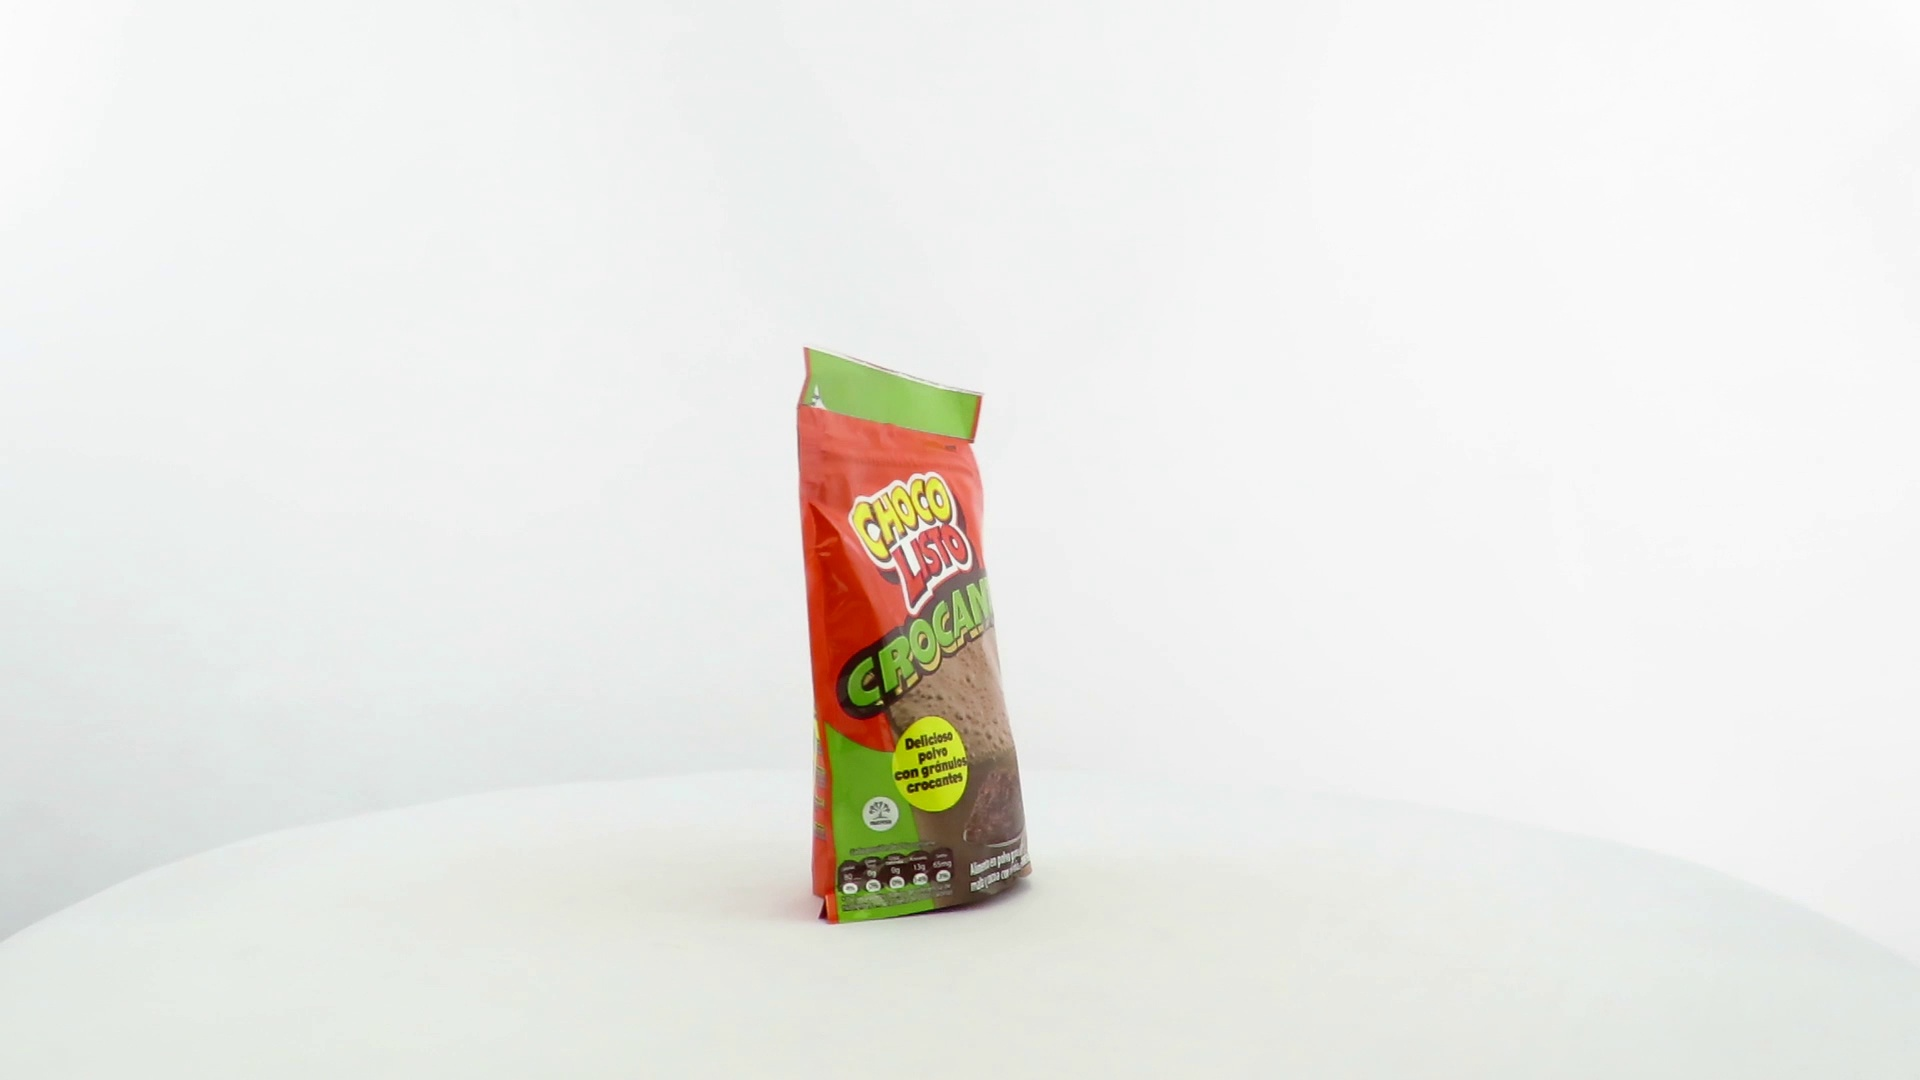COL0170102DYP10000: (791, 338, 1039, 931)
